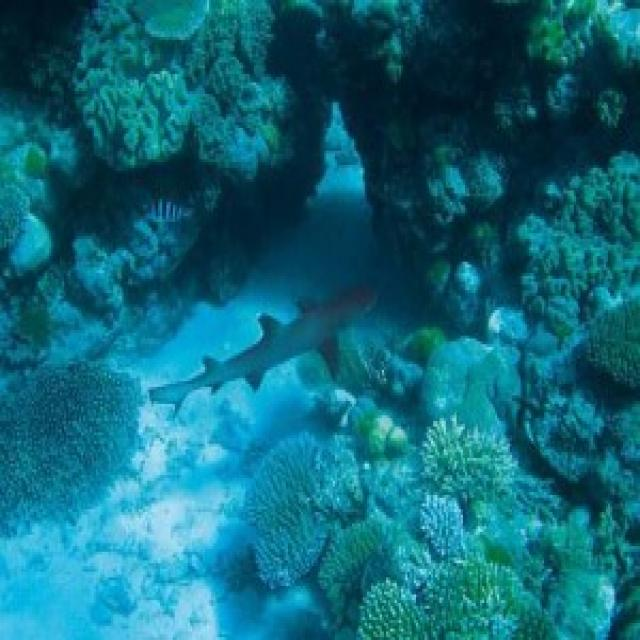Shark: (144, 276, 402, 410)
